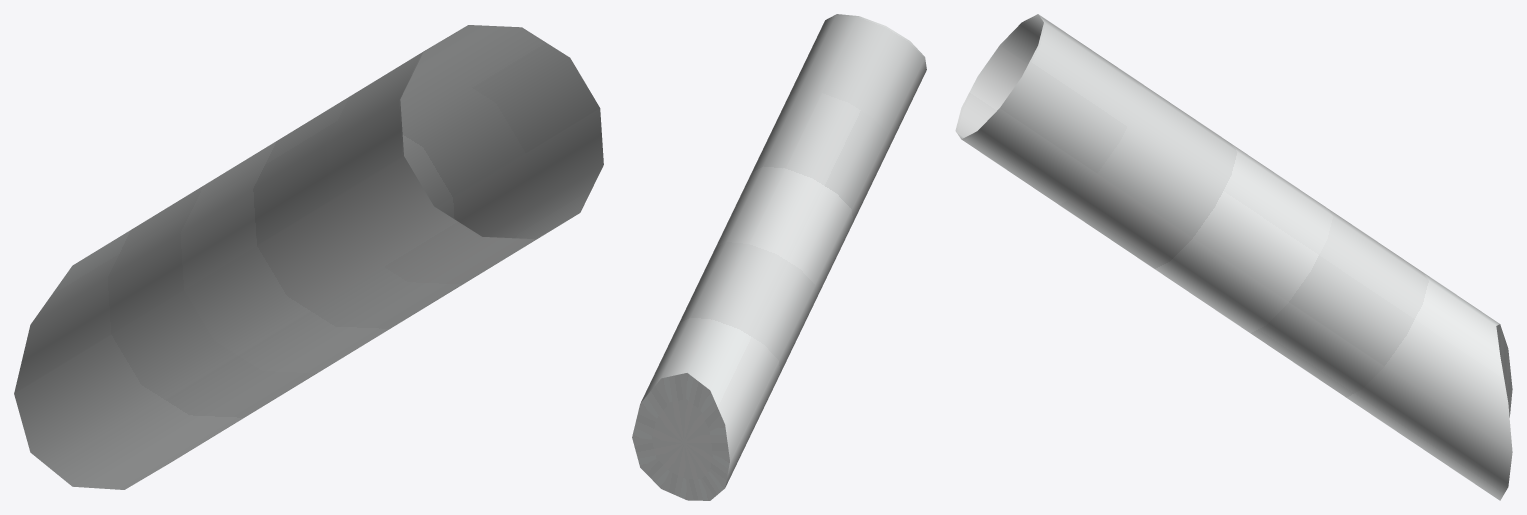
The model's file is luminairearm_truss10ftstraightdouble_c9_pedestal.obj.
3 renders of one model, left to right at view 1: azimuth 30°, elevation 25°; view 2: azimuth 150°, elevation 25°; view 3: azimuth 270°, elevation 25°, orthographic. The views are drawn at different scales.
Visible parts, largest first — view 1: luminairearm_truss10ftstraightdouble_c9_pedestal; view 2: luminairearm_truss10ftstraightdouble_c9_pedestal; view 3: luminairearm_truss10ftstraightdouble_c9_pedestal.
Part boxes in pixels (bbox=[...]): luminairearm_truss10ftstraightdouble_c9_pedestal: bbox=[14, 25, 603, 489]; luminairearm_truss10ftstraightdouble_c9_pedestal: bbox=[632, 14, 926, 500]; luminairearm_truss10ftstraightdouble_c9_pedestal: bbox=[955, 14, 1512, 500].
Bounding box in the file's own units: 0.1562 × 0.5457 × 0.5845.
